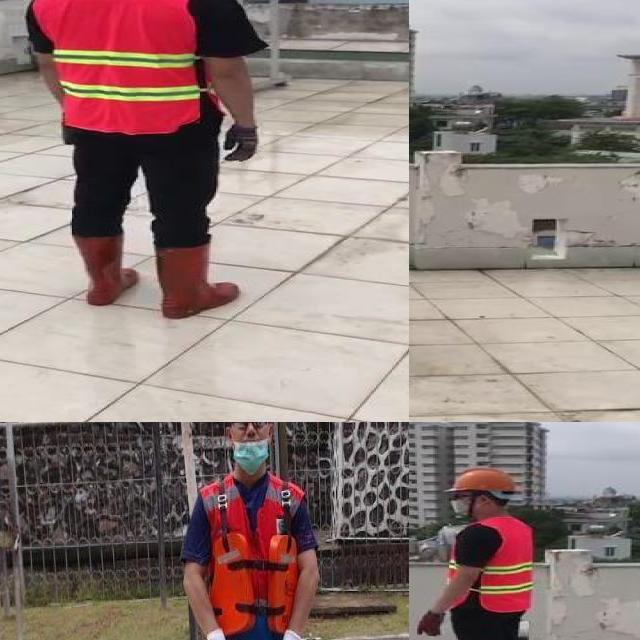boots: (150, 238, 241, 322), (71, 237, 137, 306)
face_mask: (444, 490, 478, 517)
hand_glove: (218, 125, 262, 163), (415, 609, 447, 638)
head_helmet: (447, 468, 518, 494)
person: (19, 0, 264, 327), (159, 422, 334, 640), (409, 462, 566, 640)
vest: (33, 0, 209, 135), (196, 471, 306, 640), (474, 517, 531, 610), (442, 543, 474, 610)
